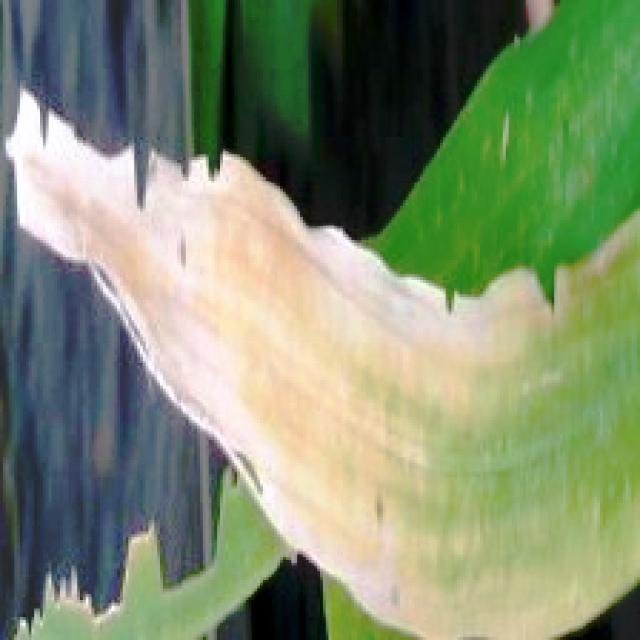unhealth: (6, 90, 640, 639)
